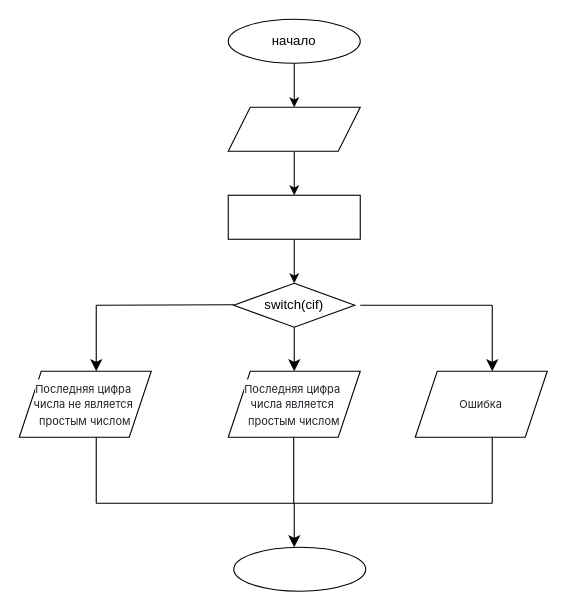
Image size: 567x611. Some labels were removed from this diagram. The shapes that lost their labels are listed below. From the top down, each one's centre as x and y in pixels, then its label:
At [293,128]: "number, cif".
At [293,216]: "cif = number % 10".
At [299,568]: "конец".
